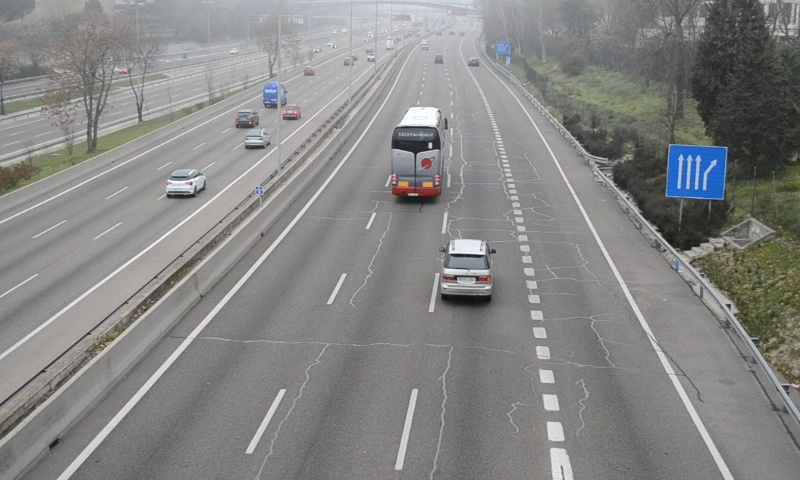bus: (390, 107, 446, 198)
car: (440, 239, 495, 299)
